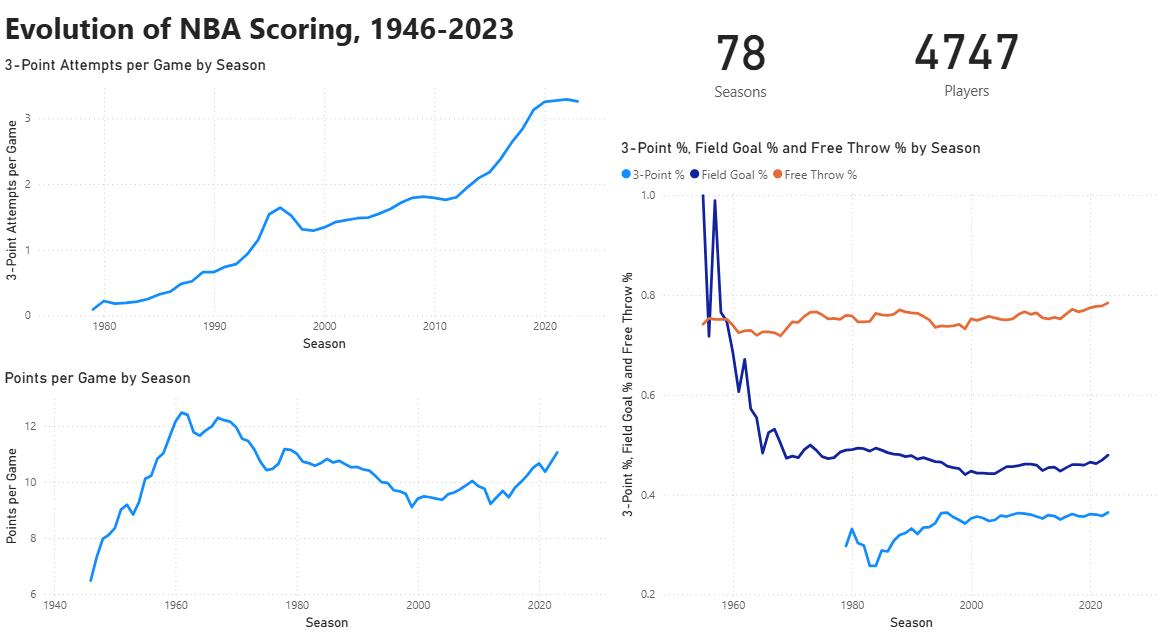

This screenshot's page, from the dashboard's own definition file:
{"tool":"powerbi","page":{"name":"Page 1","canvas":[1280,720],"ordinal":0},"visuals":[{"type":"lineChart","fields":{"Category":["season_summary.Season"],"Y":["Sum(season_summary.Avg3PA)"]},"box":[0,85.1,676.5,329.3],"z":0},{"type":"lineChart","fields":{"Category":["season_summary.Season"],"Y":["Sum(season_summary.AvgPTS)"]},"box":[0,428.1,676.5,292.3],"z":1000},{"type":"lineChart","fields":{"Category":["season_summary.Season"],"Y":["Sum(season_summary.FG3_PCT)","Sum(season_summary.FG_PCT)","Sum(season_summary.FT_PCT)"]},"box":[676.5,175.6,603.8,544.8],"z":2000},{"type":"card","fields":{"Values":["CountNonNull(season_summary.Season)"]},"box":[714.9,20.6,196.2,130.4],"z":3000},{"type":"card","fields":{"Values":["Count(player_season.Player)"]},"box":[972.9,24.7,177,120.8],"z":4000},{"type":"textbox","box":[0,27.4,676.5,57.6],"z":4001}]}

Visuals, with their boxes on the page's 1280x720 design canvas (x1, y1, x2, y2). These are canvas units, not pixel positions in the 1162x632 screenshot, which may show the page scaled, cropped or inside an application window:
lineChart - season_summary.Season x Sum(season_summary.Avg3PA): bbox=(0, 85, 676, 414)
lineChart - season_summary.Season x Sum(season_summary.AvgPTS): bbox=(0, 428, 676, 720)
lineChart - season_summary.Season x Sum(season_summary.FG3_PCT): bbox=(676, 176, 1280, 720)
card - CountNonNull(season_summary.Season): bbox=(715, 21, 911, 151)
card - Count(player_season.Player): bbox=(973, 25, 1150, 146)
textbox: bbox=(0, 27, 676, 85)
